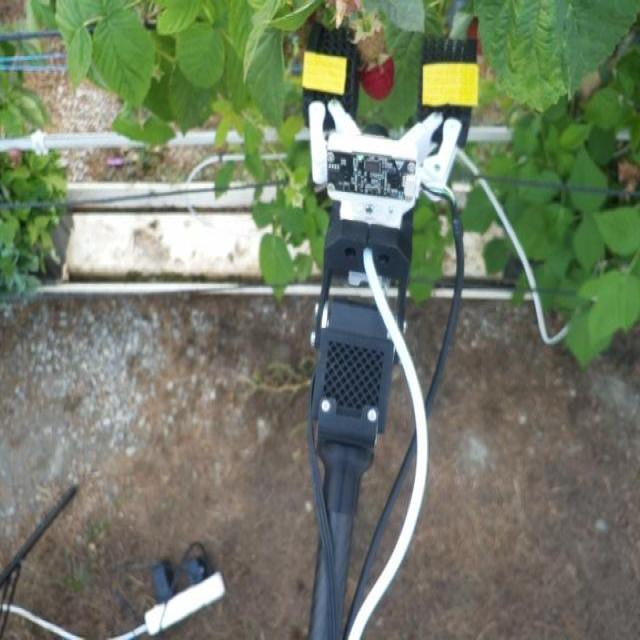Riped berries: (357, 51, 397, 101)
